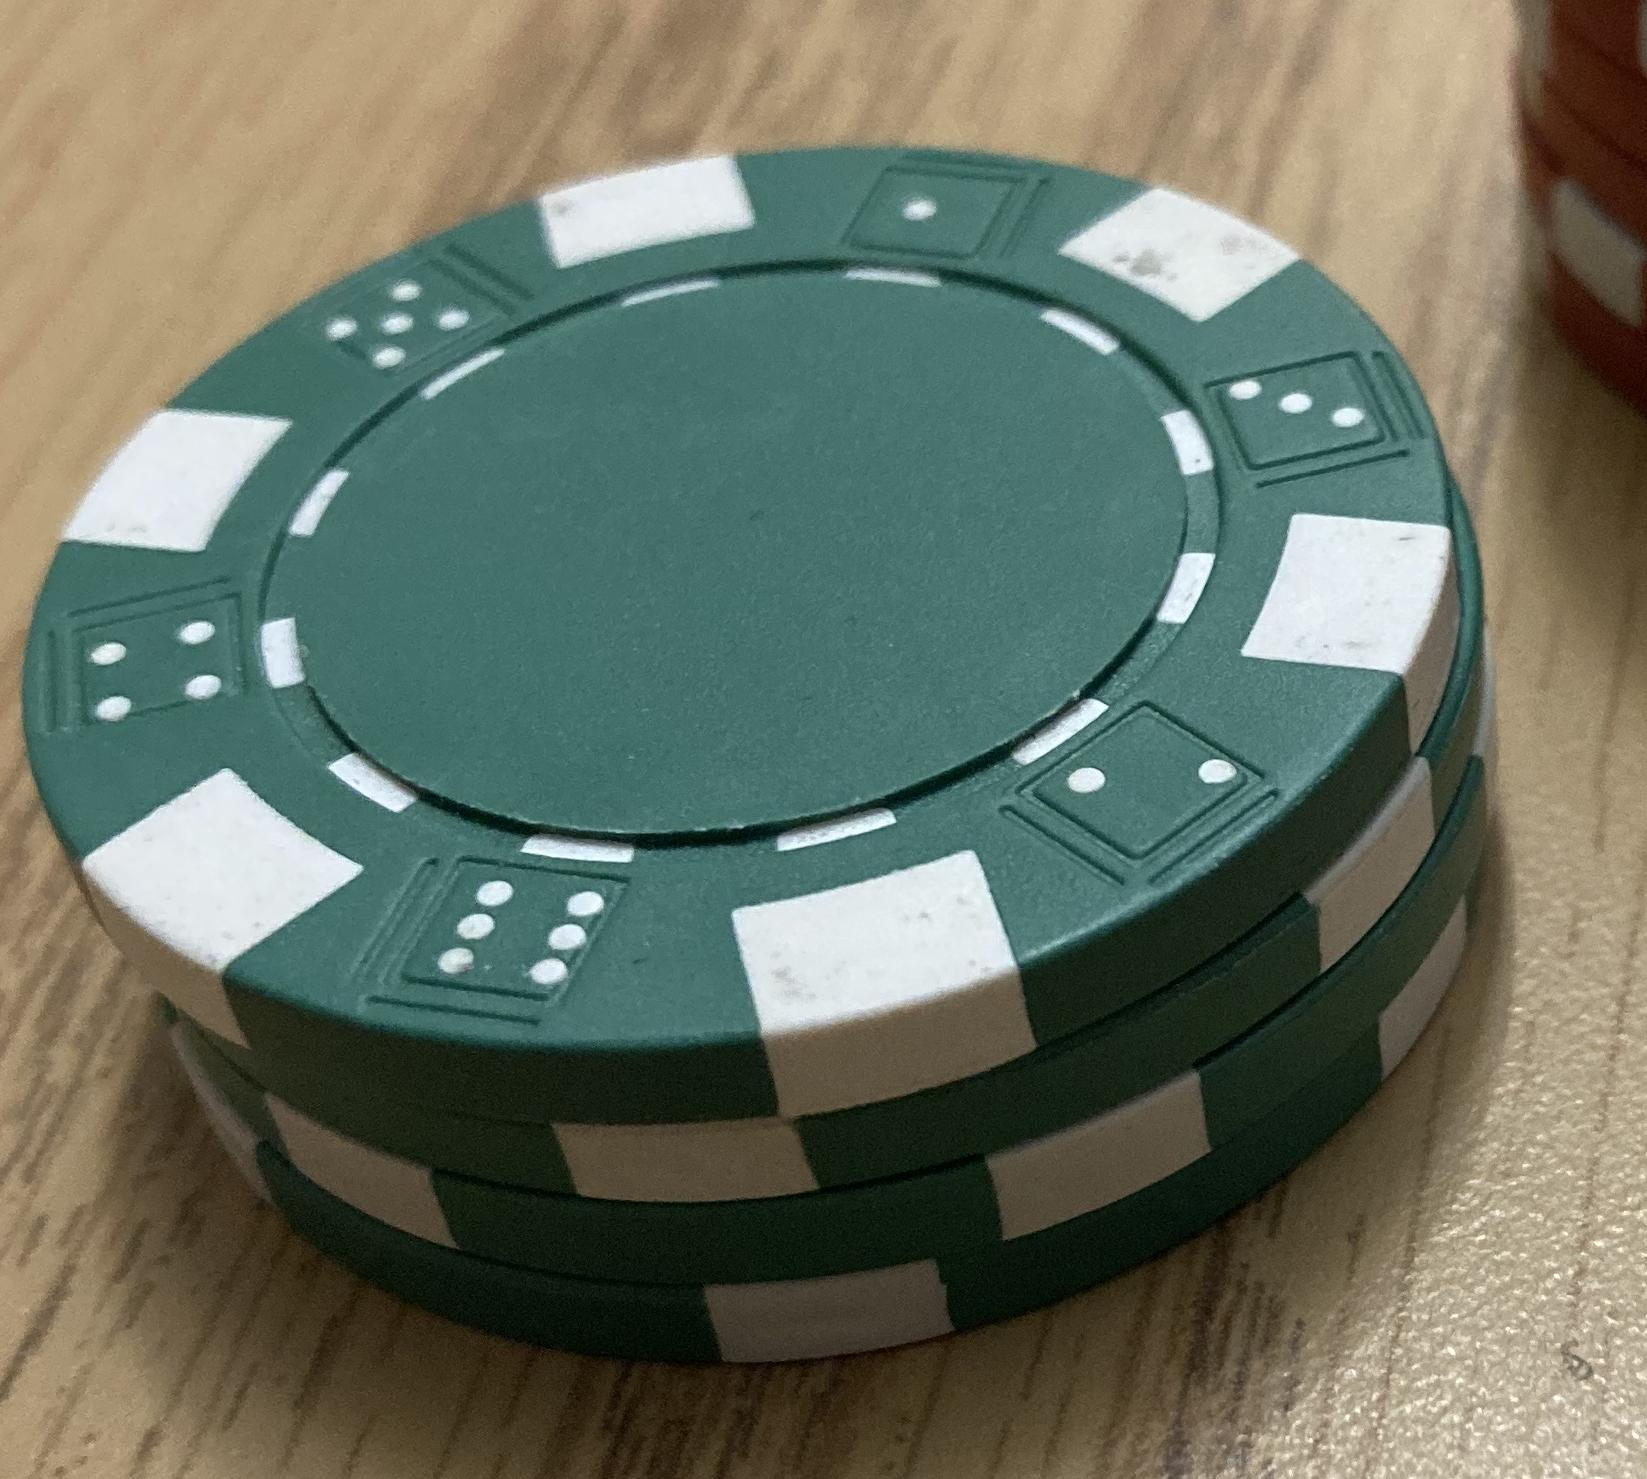Chip: (1, 1, 1647, 1479)
